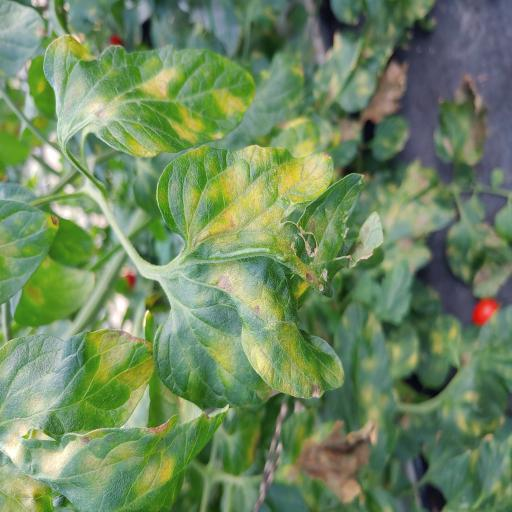disease_tomato: (154, 143, 385, 410), (43, 36, 257, 158), (0, 328, 155, 439)
